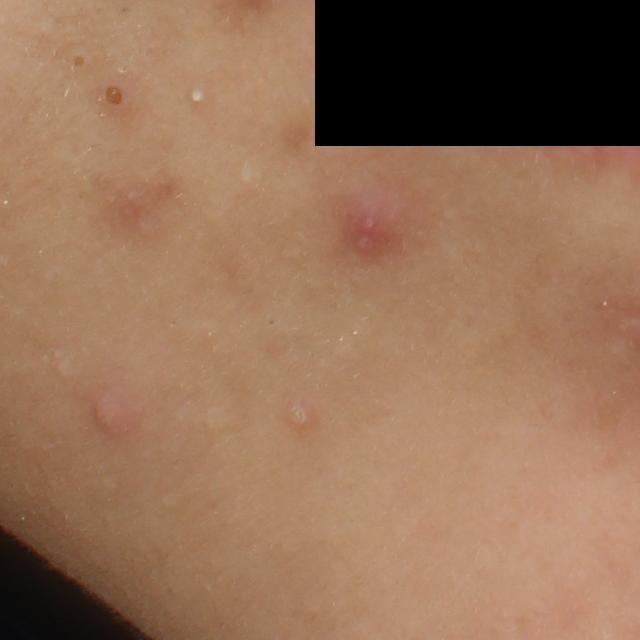comedo: (99, 76, 132, 115), (286, 400, 313, 431), (66, 48, 94, 74), (51, 361, 74, 384), (187, 86, 207, 106)
papule: (336, 188, 413, 263), (89, 395, 129, 435)
